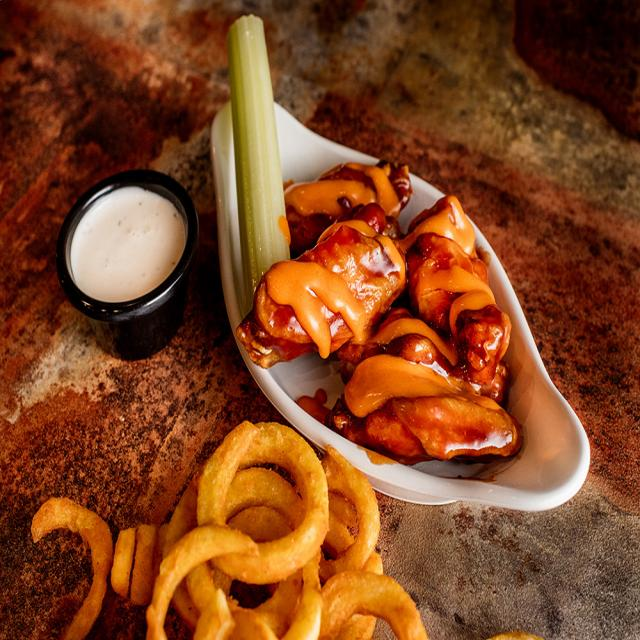Chicken Wings: (226, 149, 536, 459)
Onion Rings: (23, 421, 428, 639)
